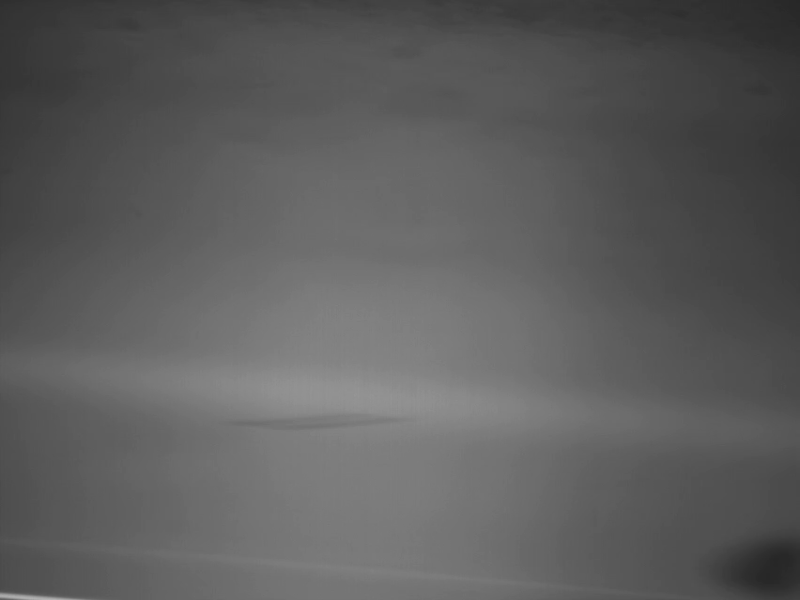fiber: (218, 404, 417, 435)
